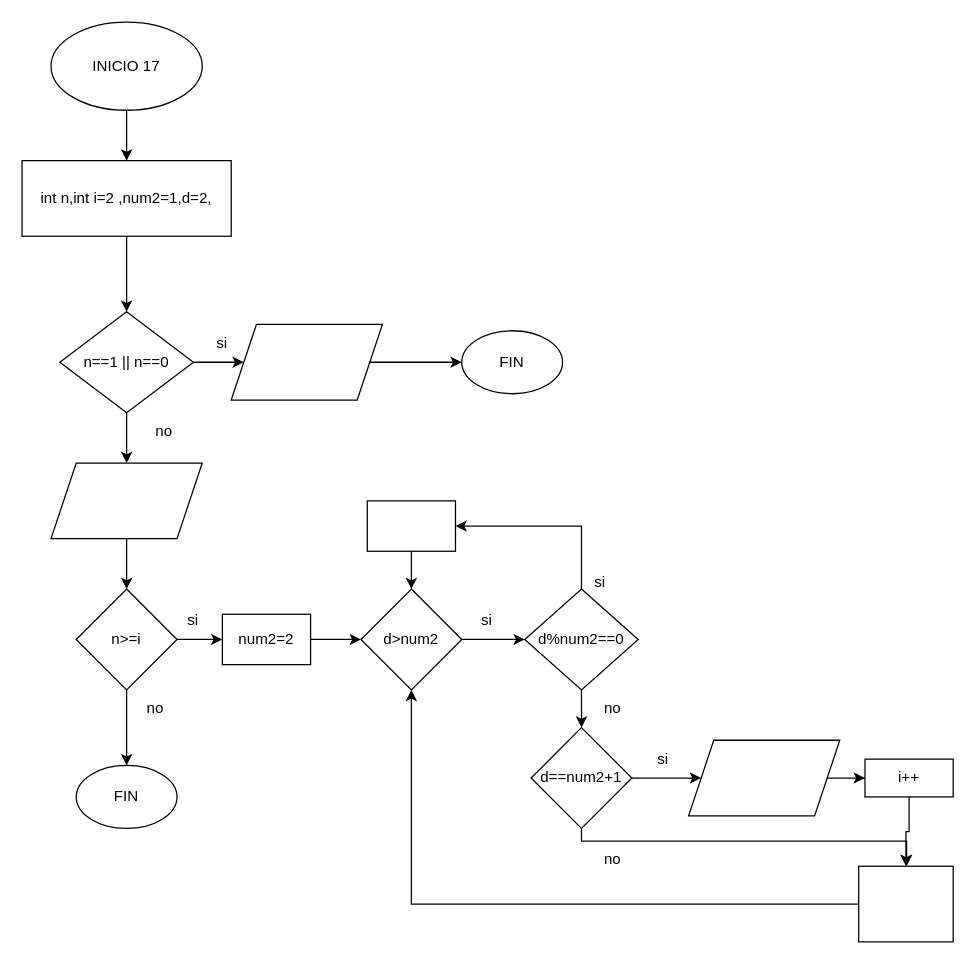
Image size: 975x964. Some labels were removed from this diagram. Each missing label, with the centre of its shape:
d++: point (410, 525)
mostrar "": point (306, 361)
mostrar 2: point (126, 500)
mostrar d: point (763, 777)
num2++: point (905, 903)
